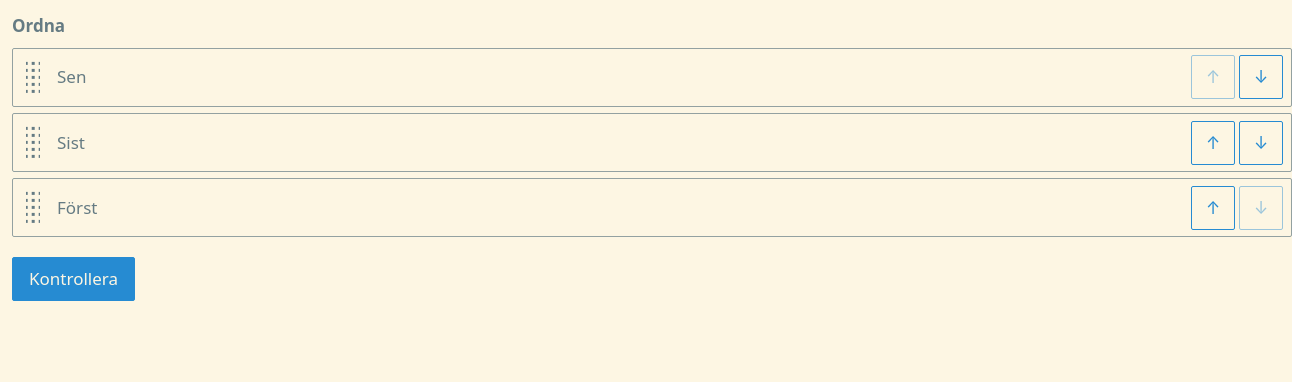
Test case: Ordering › accepts the right order and rejects others
Step 1. Click the button "↑" in the row of "Först" → (1213,208), box [1191,186,1235,230]
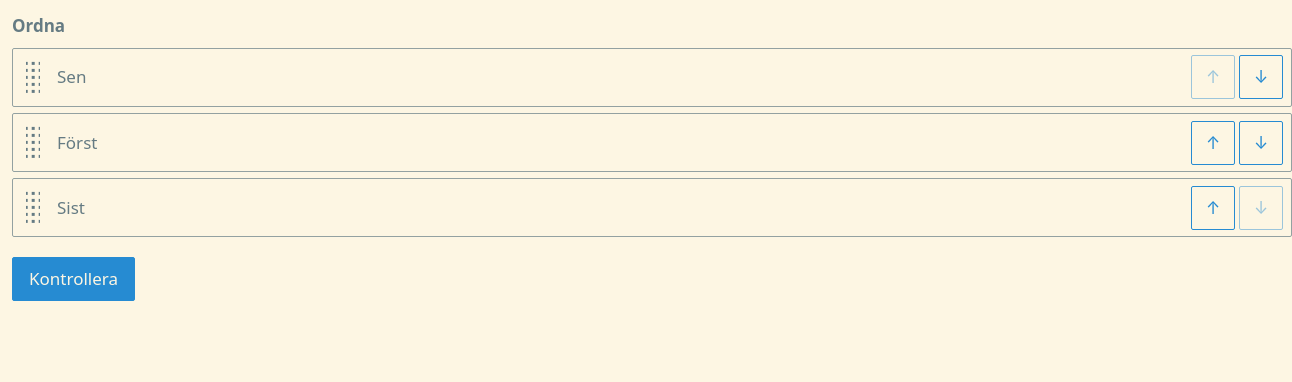
Step 2. Click the button "Kontrollera" → (74,279), box [12,257,135,301]
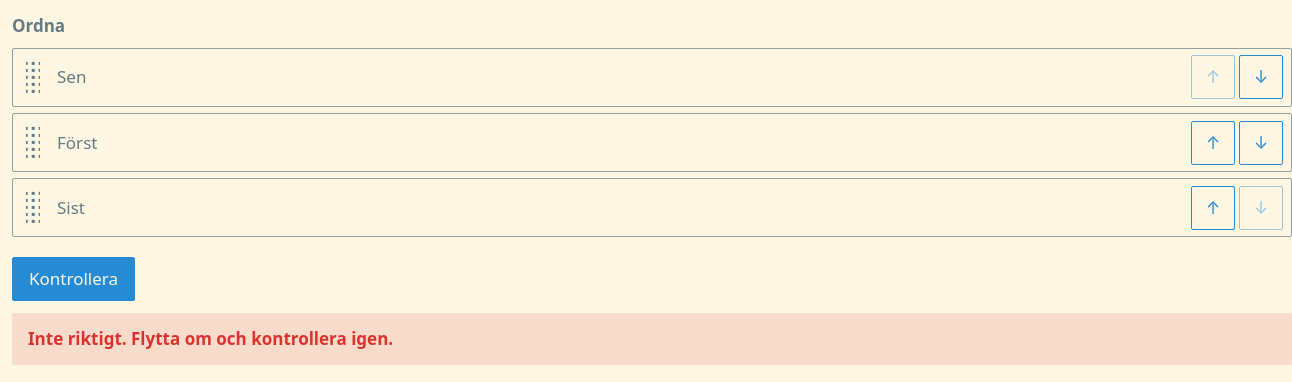
Expected: the text "Inte riktigt. Flytta om och kontrollera igen." is shown, [28,327,393,350]
Step 3. Click the button "↓" in the row of "Sen" → (1261,77), box [1239,55,1283,99]
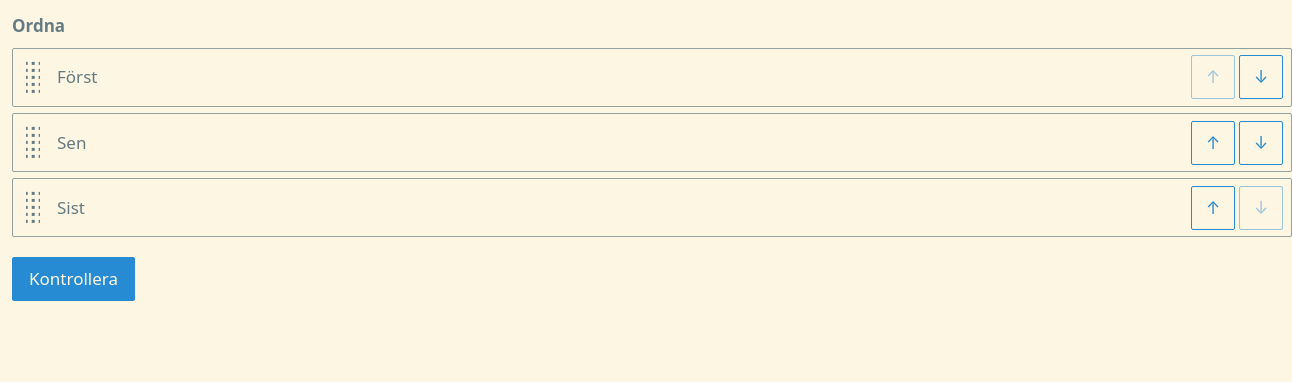
Expected: the text "Flytta om" is gone
Step 4. Click the button "Kontrollera" → (74,279), box [12,257,135,301]
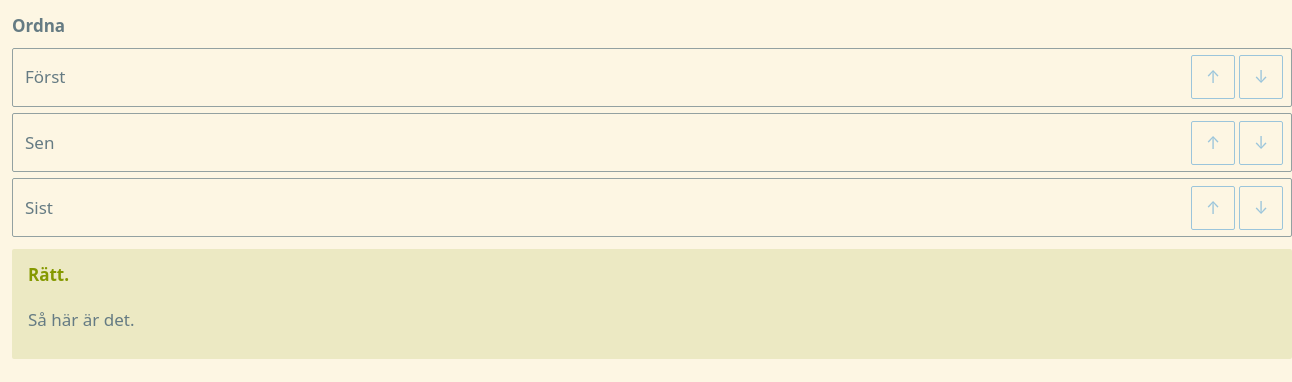
Expected: the text "Rätt." is shown, [28,263,69,286]
Expected: the text "Så här är det." is shown, [28,308,134,331]
